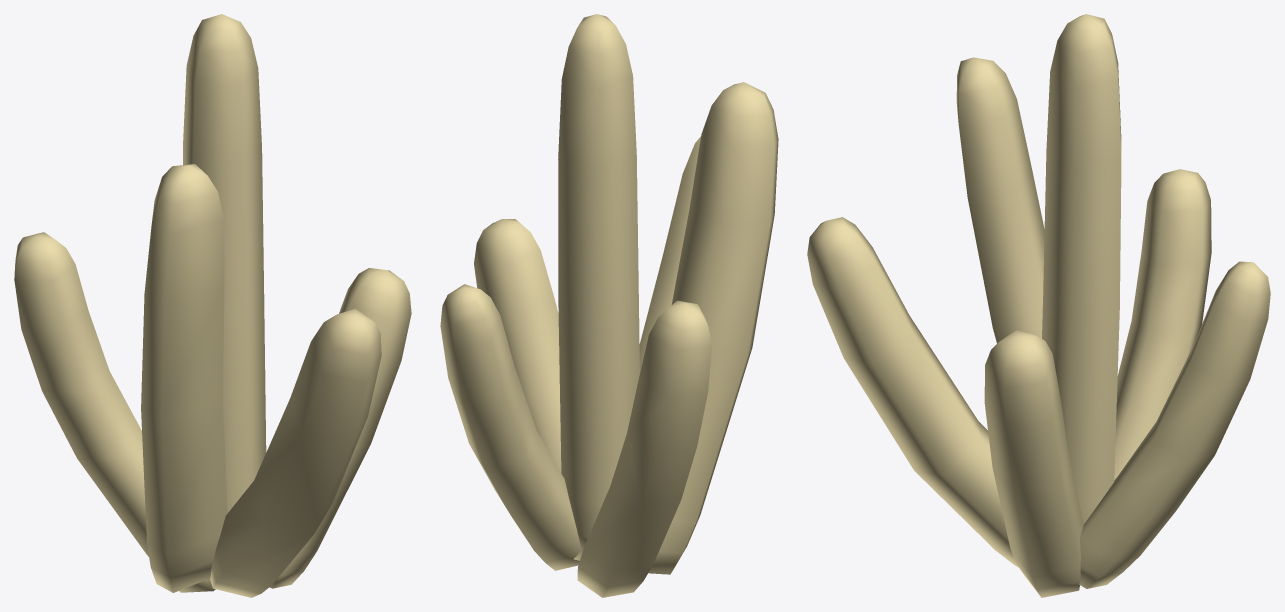
File: Coral2_Bogdan.fbx
3 views of the same model, side by side, from view 1: azimuth 30°, elevation 25°; view 2: azimuth 150°, elevation 25°; view 3: azimuth 270°, elevation 25° (orthographic).
Parts seen in each view (by area): view 1: Coral2; view 2: Coral2; view 3: Coral2.
Boxes of the visible parts, x1=… form: Coral2: x1=14, y1=14, x2=411, y2=597; Coral2: x1=440, y1=14, x2=778, y2=597; Coral2: x1=807, y1=14, x2=1270, y2=597.
Bounding box in the file's own units: 42.85 × 75.33 × 55.91.
